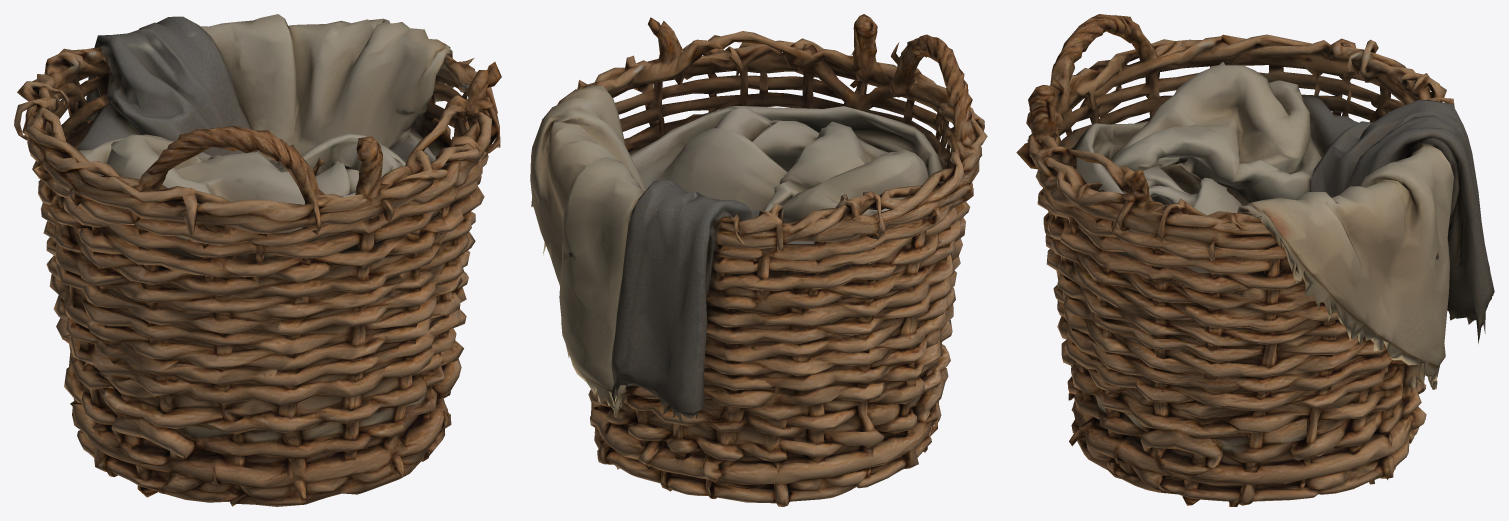
The picture shows the model from 3 angles, left to right: view 1: azimuth 30°, elevation 25°; view 2: azimuth 150°, elevation 25°; view 3: azimuth 270°, elevation 25°; orthographic projection. The views are drawn at different scales.
Visible parts, largest first — view 1: tripo_node_058e0b96-cb2e-48d9-b217-c3d3b5e7e047; view 2: tripo_node_058e0b96-cb2e-48d9-b217-c3d3b5e7e047; view 3: tripo_node_058e0b96-cb2e-48d9-b217-c3d3b5e7e047.
Part boxes in pixels (box(x1,y1,x2,y2)): tripo_node_058e0b96-cb2e-48d9-b217-c3d3b5e7e047: box(14, 14, 501, 506); tripo_node_058e0b96-cb2e-48d9-b217-c3d3b5e7e047: box(530, 14, 987, 506); tripo_node_058e0b96-cb2e-48d9-b217-c3d3b5e7e047: box(1016, 14, 1494, 506).
Bounding box in the file's own units: 0.9703 × 0.8596 × 1.
1 material, 1 textured.
